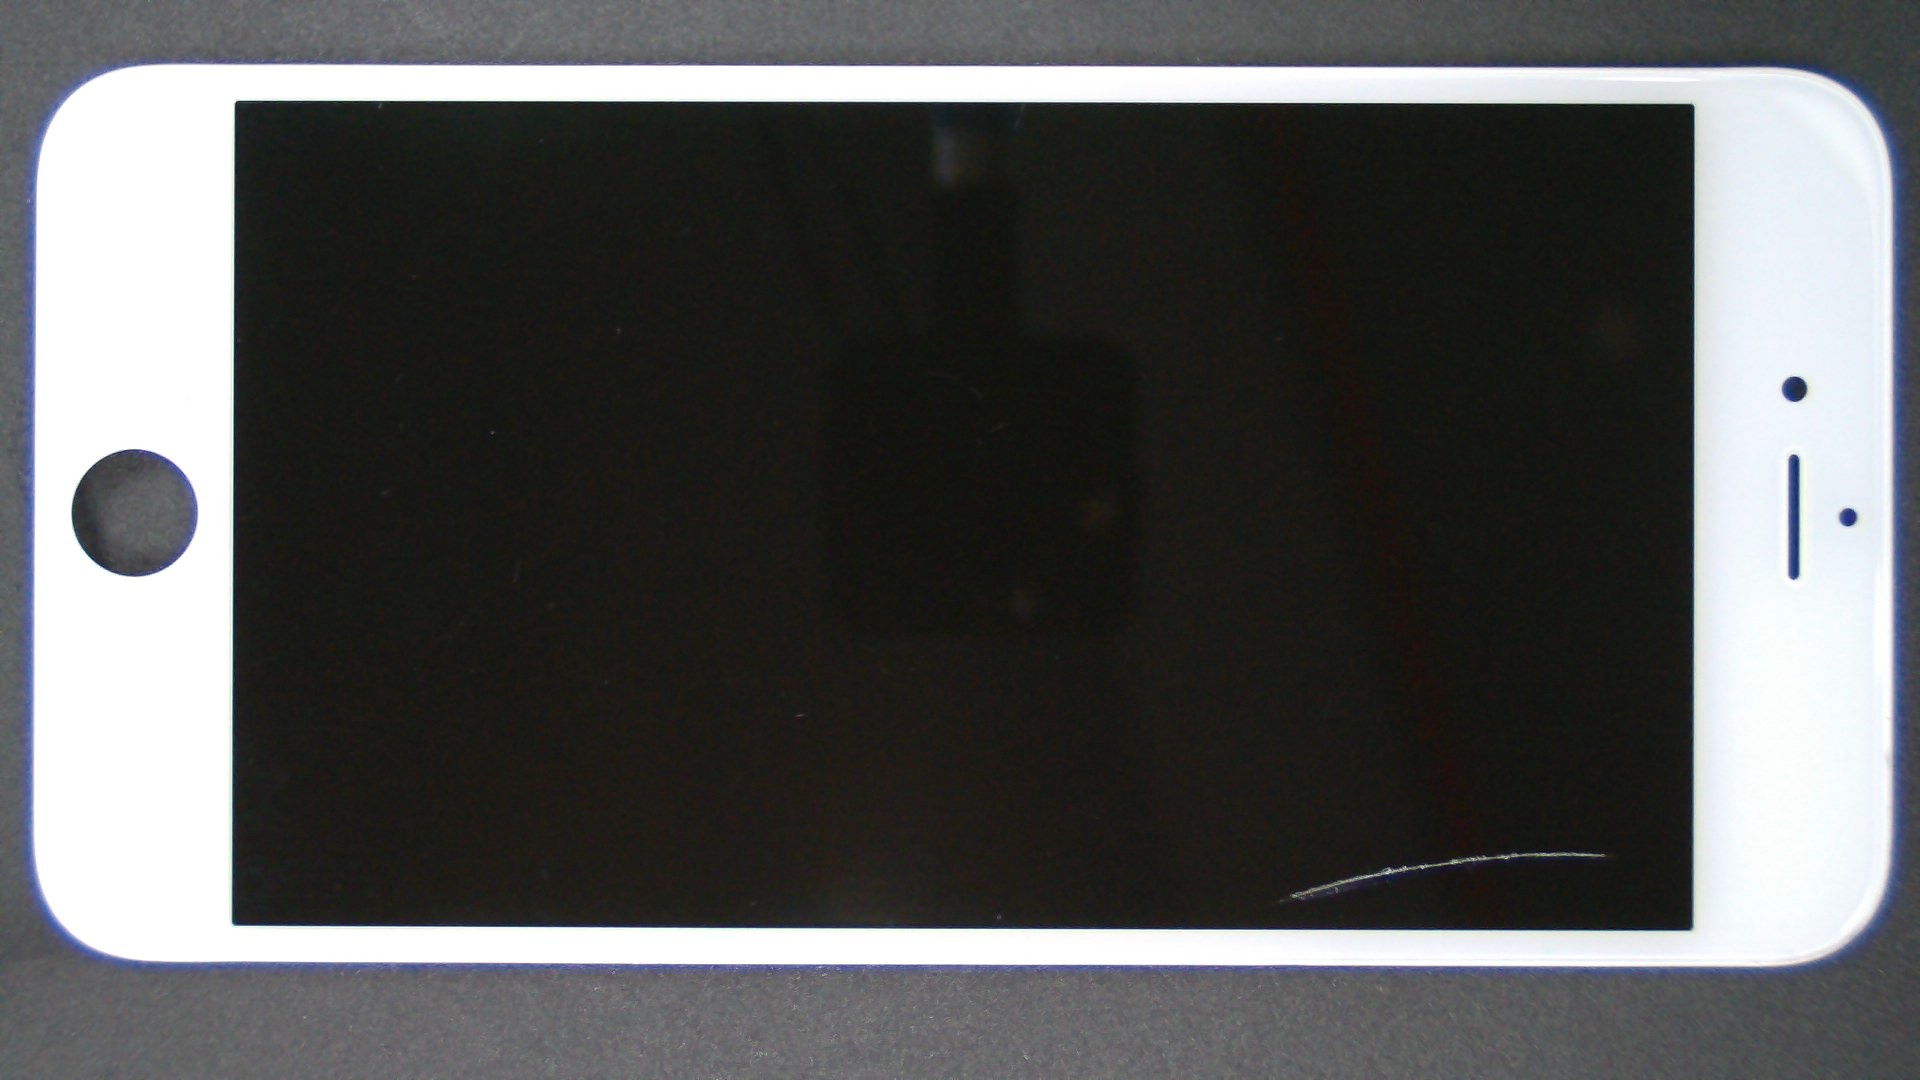oil: (770, 426, 1920, 1080)
